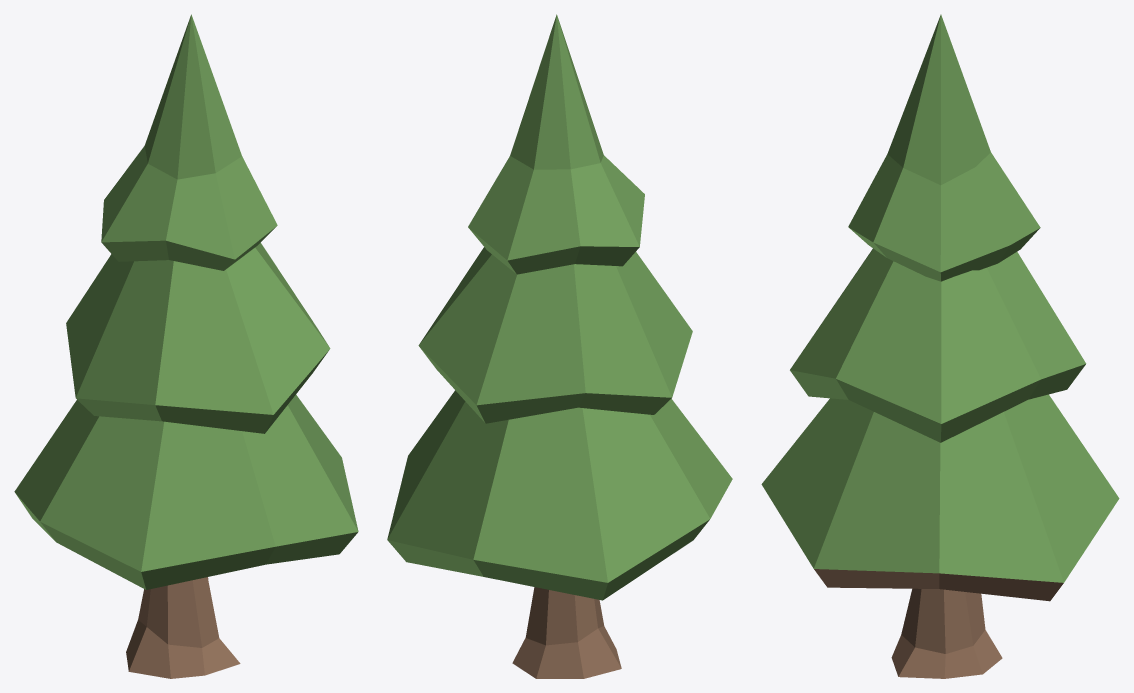
The model's file is SlimPineTree.fbx.
3 views of the same model, side by side, from view 1: azimuth 30°, elevation 25°; view 2: azimuth 150°, elevation 25°; view 3: azimuth 270°, elevation 25° (orthographic).
Parts seen in each view (by area): view 1: Tree_Spruce_tiny_01; view 2: Tree_Spruce_tiny_01; view 3: Tree_Spruce_tiny_01.
Part boxes in pixels (x1,y1,x2,y2): Tree_Spruce_tiny_01: [14, 14, 358, 678]; Tree_Spruce_tiny_01: [387, 14, 732, 678]; Tree_Spruce_tiny_01: [761, 14, 1119, 678].
Size of the model in its own units: 543 by 1101 by 550.
